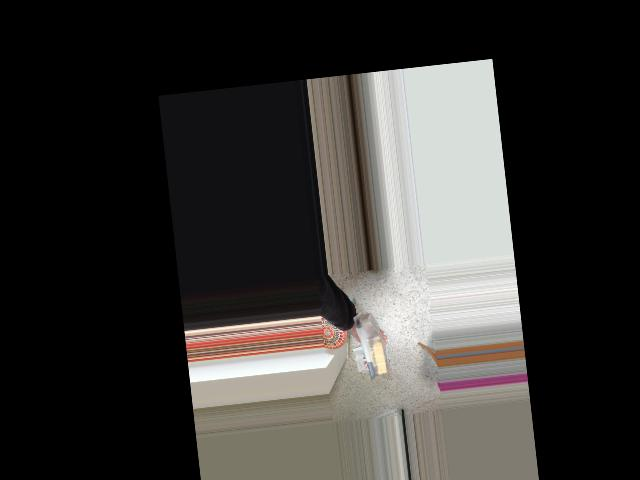cheese: (353, 312, 389, 379)
